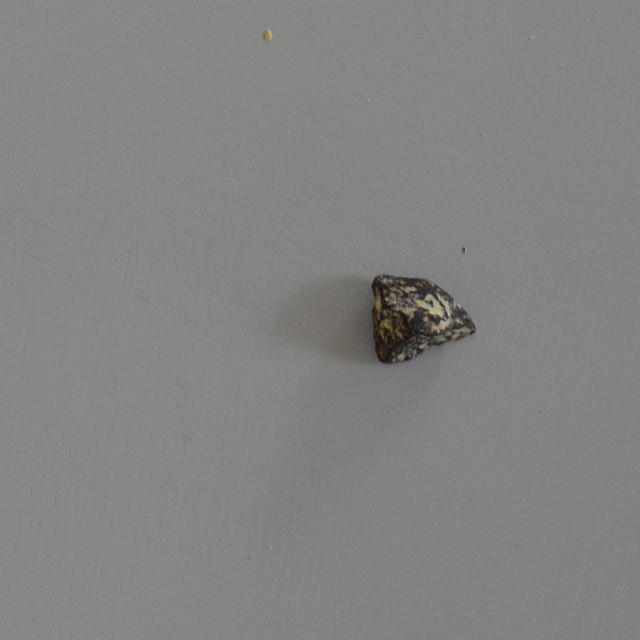cuerpos_extranos: (364, 264, 484, 366)
